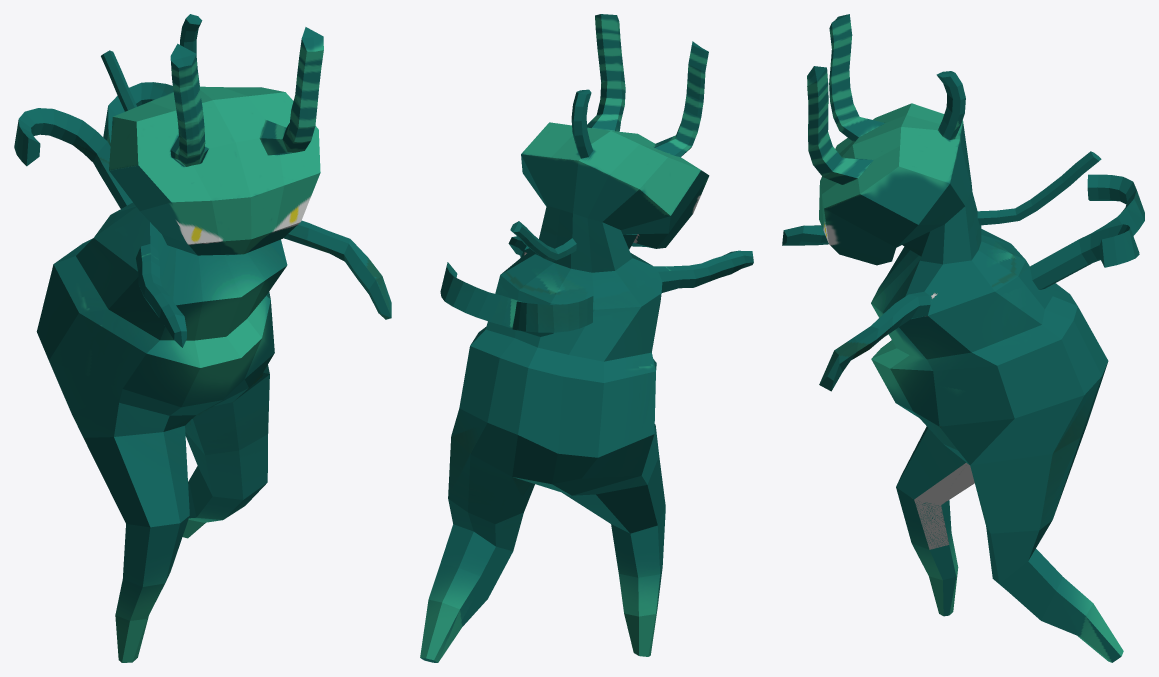
File: monstruo1_caminar_99.obj
The picture shows the model from 3 angles, left to right: view 1: azimuth 30°, elevation 25°; view 2: azimuth 150°, elevation 25°; view 3: azimuth 270°, elevation 25°; orthographic projection. The views are drawn at different scales.
Visible parts, largest first — view 1: Monstruo_basico; view 2: Monstruo_basico; view 3: Monstruo_basico.
Boxes of the visible parts, x1,y1,x2,y2 form: Monstruo_basico: (14, 14, 391, 662); Monstruo_basico: (420, 14, 753, 662); Monstruo_basico: (782, 14, 1144, 662).
Bounding box in the file's own units: 0.3911 × 0.9963 × 0.5477.
